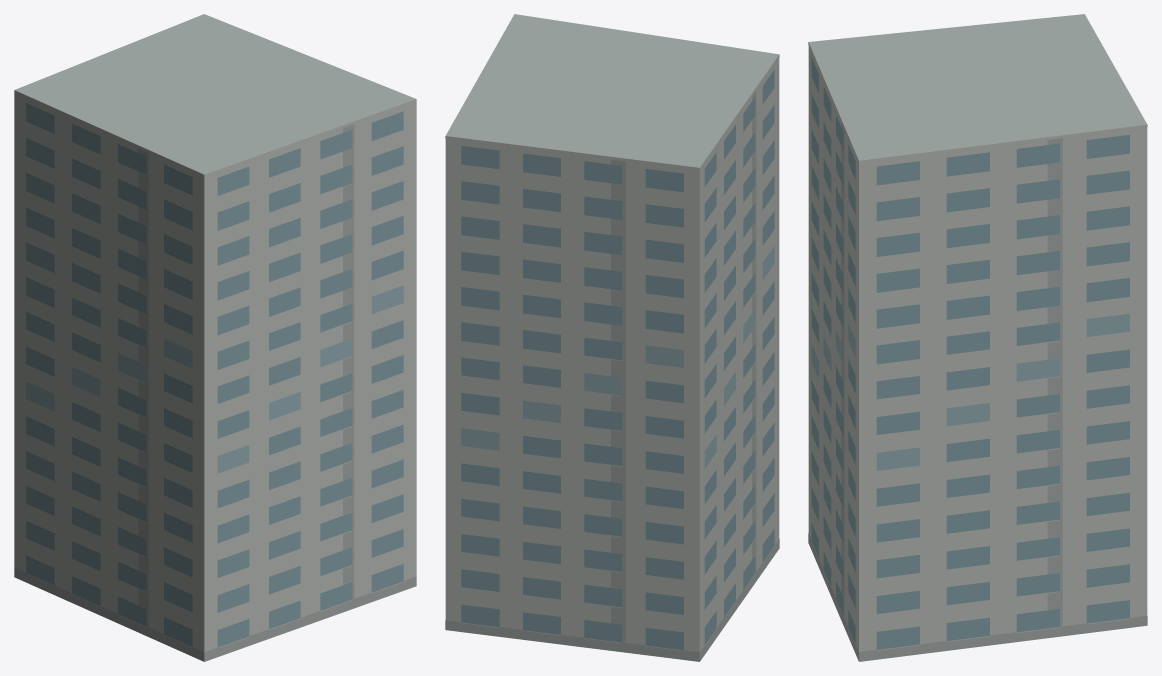
Rendered from residential-bd80bd2b-15c1-4af3-8685-95b66b529e28.glb.
3 renders of one model, left to right at view 1: azimuth 30°, elevation 25°; view 2: azimuth 150°, elevation 25°; view 3: azimuth 270°, elevation 25°, orthographic. The views are drawn at different scales.
Visible parts, largest first — view 1: residential-bd80bd2b-15c1-4af3-8685-95b66b529e28.tmp; view 2: residential-bd80bd2b-15c1-4af3-8685-95b66b529e28.tmp; view 3: residential-bd80bd2b-15c1-4af3-8685-95b66b529e28.tmp.
Boxes of the visible parts, box(x1,y1,x2,y2) form: residential-bd80bd2b-15c1-4af3-8685-95b66b529e28.tmp: box(14, 14, 416, 661); residential-bd80bd2b-15c1-4af3-8685-95b66b529e28.tmp: box(445, 14, 779, 661); residential-bd80bd2b-15c1-4af3-8685-95b66b529e28.tmp: box(808, 14, 1147, 661).
Bounding box in the file's own units: 27.03 × 43 × 26.37.
